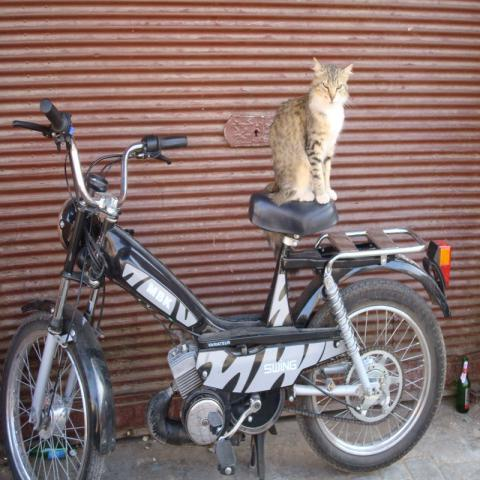motorcycle: (8, 102, 453, 475)
